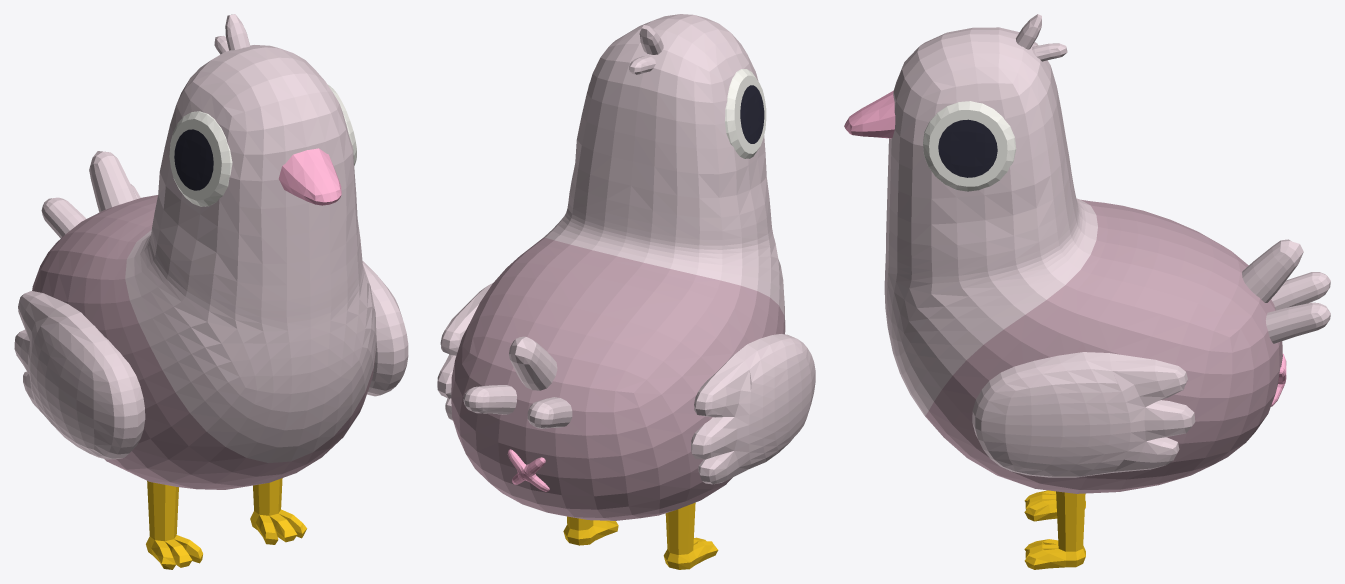
File: Dove_LOD0.fbx
3 renders of one model, left to right at view 1: azimuth 30°, elevation 25°; view 2: azimuth 150°, elevation 25°; view 3: azimuth 270°, elevation 25°, orthographic. The views are drawn at different scales.
Parts seen in each view (by area): view 1: Mesh; view 2: Mesh; view 3: Mesh.
Part boxes in pixels (bbox=[...]): Mesh: bbox=[14, 14, 408, 569]; Mesh: bbox=[437, 14, 815, 569]; Mesh: bbox=[844, 14, 1330, 569].
Size of the model in its own units: 125 by 199 by 169.
Materials: 1 (1 with a texture image).
